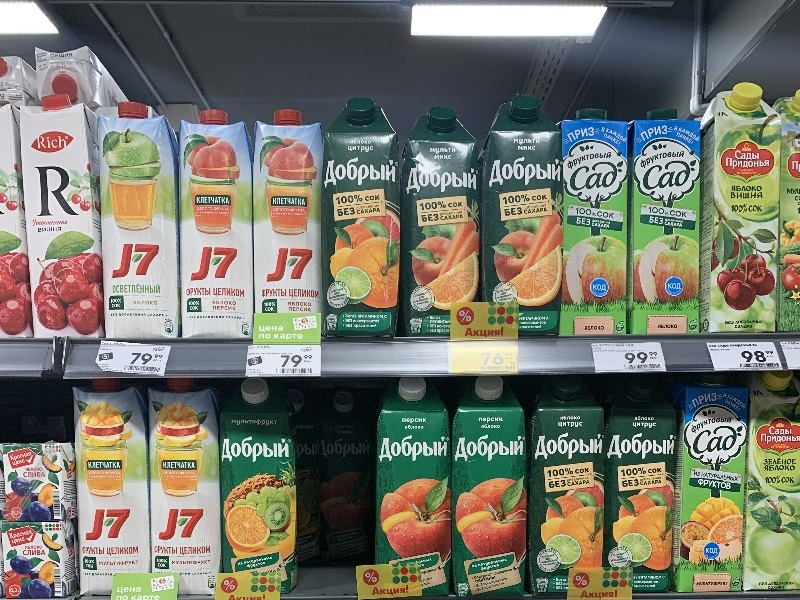juice: (383, 105, 496, 342), (86, 98, 190, 345), (15, 90, 112, 345), (694, 80, 783, 343), (480, 91, 569, 348), (315, 97, 405, 348), (173, 108, 265, 348), (207, 378, 306, 597), (554, 105, 642, 349), (371, 377, 460, 599), (144, 374, 232, 598), (67, 376, 155, 599), (447, 375, 533, 599), (247, 108, 326, 347), (530, 377, 611, 597), (603, 377, 678, 597)
